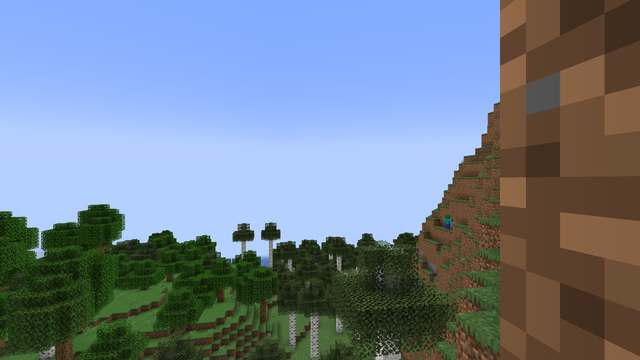zombies: (444, 215, 451, 230)
